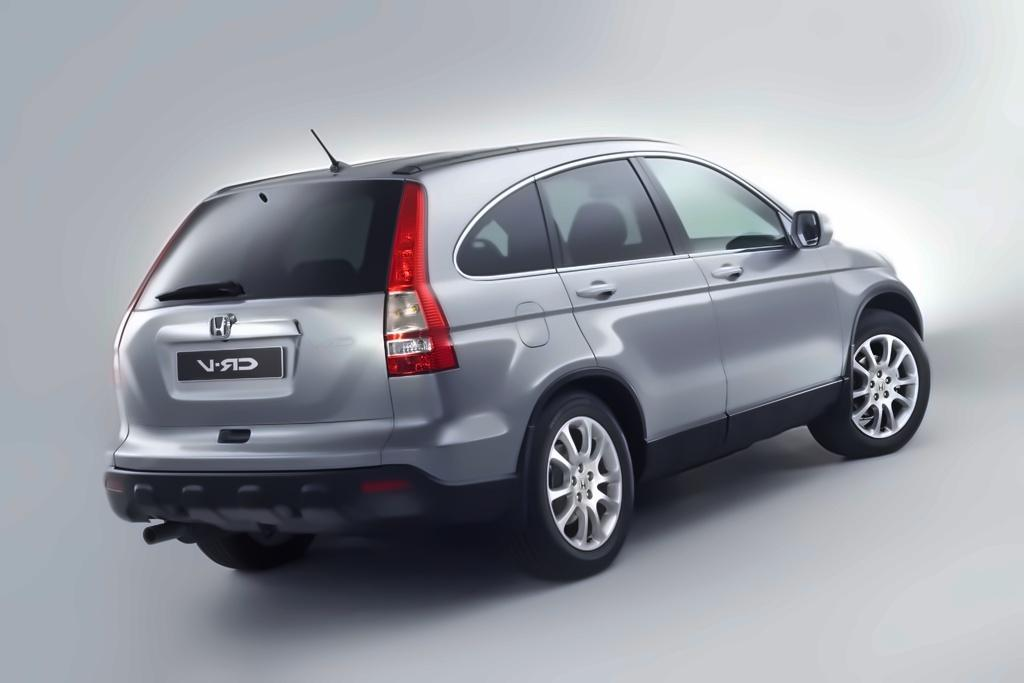Car boot: (109, 171, 408, 479)
Driver-s door - -F-R-: (655, 139, 838, 428)
Fender - -F-R-: (821, 224, 895, 393)
Fender - -R-R-: (420, 262, 607, 439)
Front bumper: (893, 269, 944, 353)
Passenger-s door - -R-R-: (536, 142, 721, 443)
Rear bumper: (94, 382, 532, 553)
Rear light - -L-: (113, 196, 202, 370)
Rear light - -R-: (380, 169, 465, 382)
Side bumper - -R-: (623, 368, 864, 491)
Side mirror - -R-: (783, 198, 838, 251)
